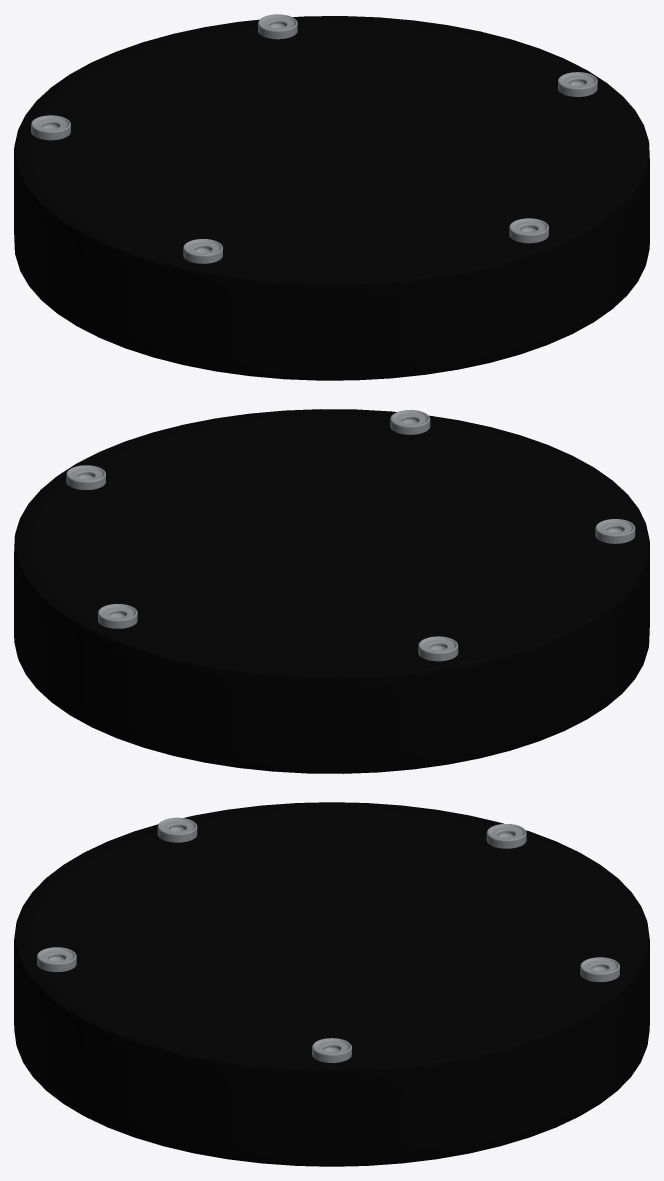
Rendered from platform.glb.
The picture shows the model from 3 angles, top to bottom: view 1: azimuth 30°, elevation 25°; view 2: azimuth 150°, elevation 25°; view 3: azimuth 270°, elevation 25°; orthographic projection.
Parts seen in each view (by area): view 1: Rotating_Light_Platform1_lambert1_0; view 2: Rotating_Light_Platform1_lambert1_0; view 3: Rotating_Light_Platform1_lambert1_0.
Boxes of the visible parts, box(x1,y1,x2,y2) form: Rotating_Light_Platform1_lambert1_0: box(14, 14, 649, 380); Rotating_Light_Platform1_lambert1_0: box(14, 409, 649, 773); Rotating_Light_Platform1_lambert1_0: box(14, 802, 649, 1166).
Bounding box in the file's own units: 62.13 × 11.73 × 62.13.
1 material, 1 textured.
